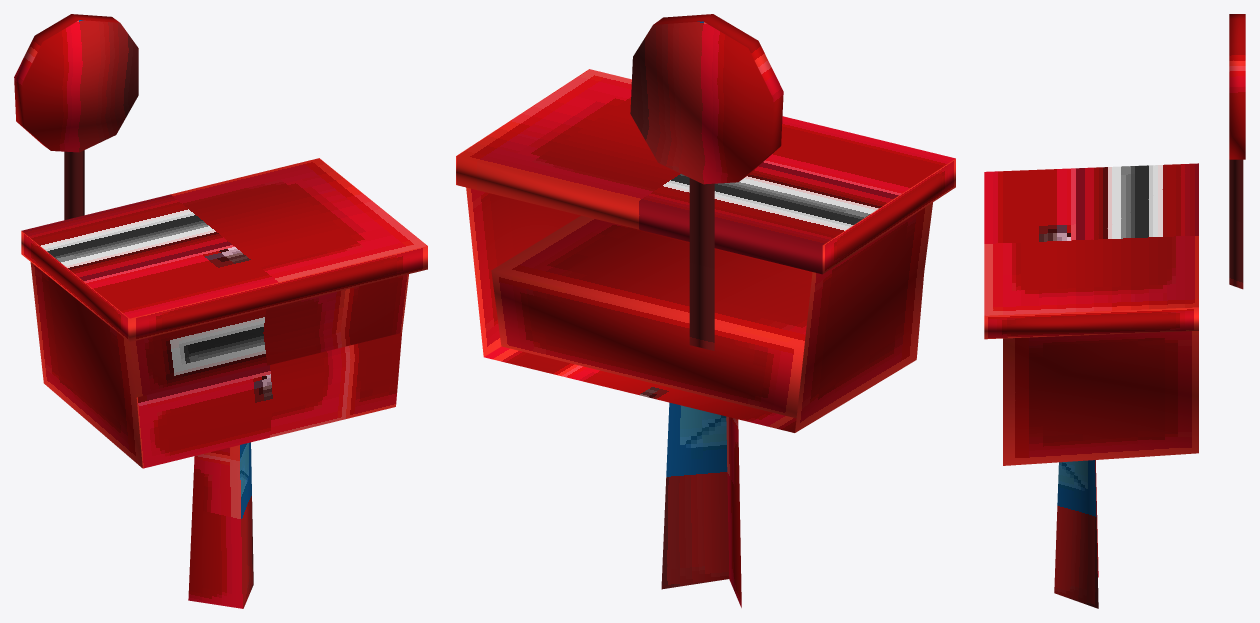
The model's file is int_post_D01.dae.
The picture shows the model from 3 angles, left to right: view 1: azimuth 30°, elevation 25°; view 2: azimuth 150°, elevation 25°; view 3: azimuth 270°, elevation 25°; orthographic projection. The views are drawn at different scales.
Parts seen in each view (by area): view 1: int_post_D01; view 2: int_post_D01; view 3: int_post_D01.
Part boxes in pixels (bbox=[...]): int_post_D01: bbox=[14, 14, 427, 608]; int_post_D01: bbox=[456, 14, 955, 607]; int_post_D01: bbox=[984, 14, 1245, 608].
Size of the model in its own units: 26.11 by 45.43 by 20.03.
1 material, 1 textured.
